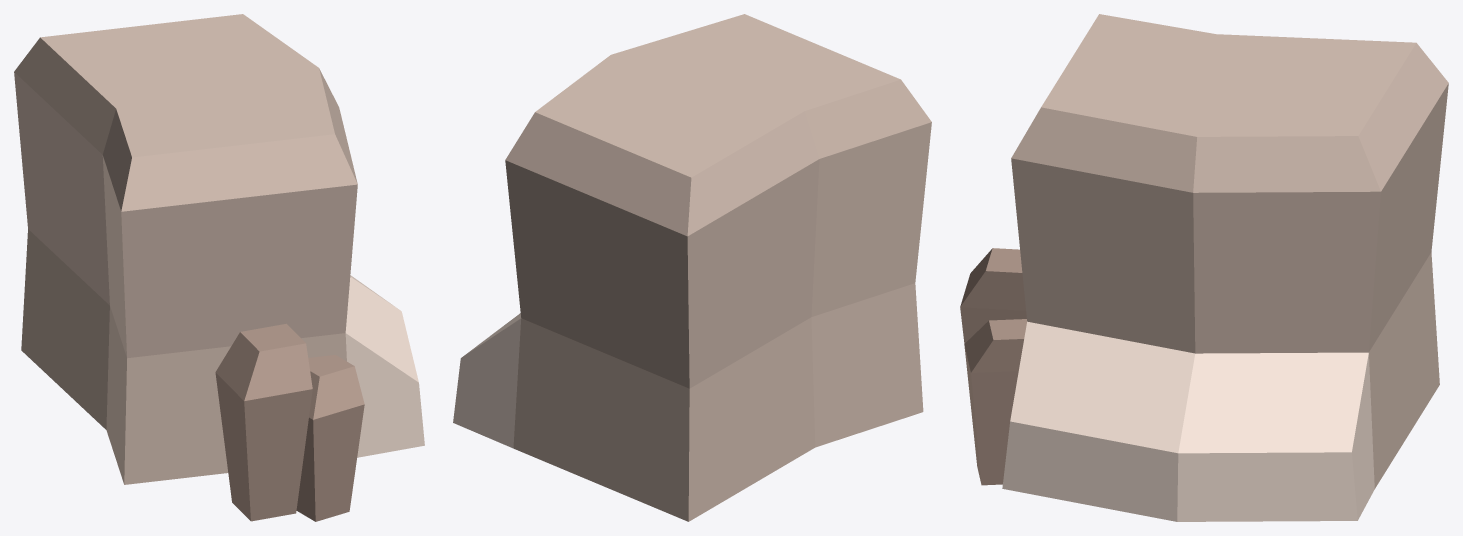
File: rock-type6-03-sand.glb
3 views of the same model, side by side, from view 1: azimuth 30°, elevation 25°; view 2: azimuth 150°, elevation 25°; view 3: azimuth 270°, elevation 25° (orthographic). The views are drawn at different scales.
Parts seen in each view (by area): view 1: Rock_Type6_03_mesh; view 2: Rock_Type6_03_mesh; view 3: Rock_Type6_03_mesh.
Part boxes in pixels (left/top/right/bottom): Rock_Type6_03_mesh: left=14, top=14, right=424, bottom=521; Rock_Type6_03_mesh: left=453, top=14, right=931, bottom=521; Rock_Type6_03_mesh: left=960, top=14, right=1448, bottom=521.
Bounding box in the file's own units: 1.11 × 1.14 × 1.31.
1 material, 1 textured.
